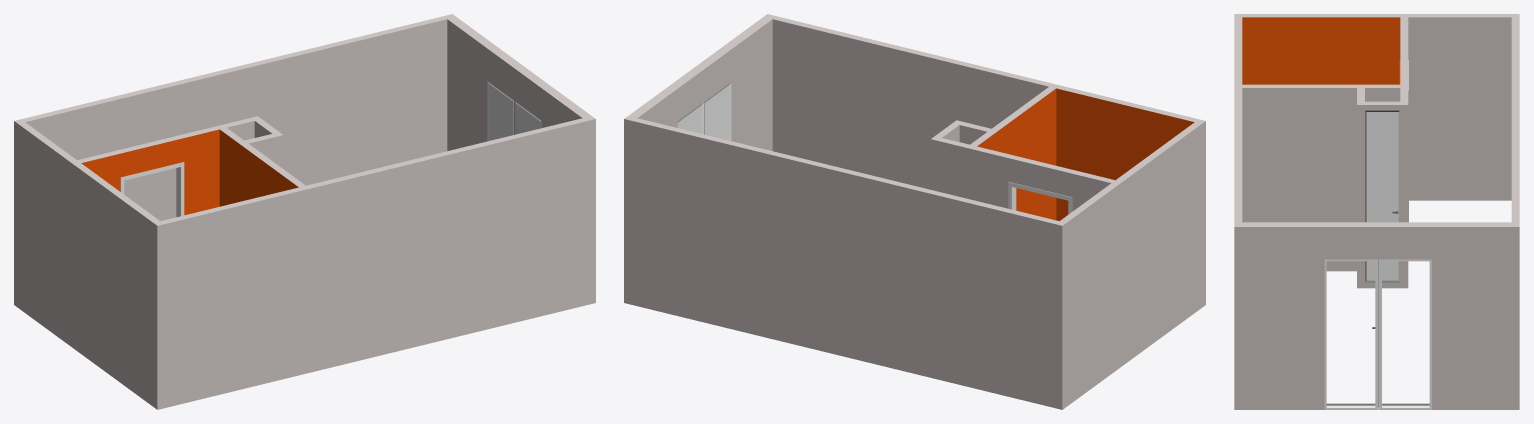
File: Walls.glb
3 views of the same model, side by side, from view 1: azimuth 30°, elevation 25°; view 2: azimuth 150°, elevation 25°; view 3: azimuth 270°, elevation 25° (orthographic).
Visible parts, largest first — view 1: Wall Right, Wall Left, Wall Back, Wall Front, Wall Left Bathroom, Wall Front Bathroom, Wall Right Kitchen; view 2: Wall Left, Wall Right, Wall Back, Wall Front, Wall Left Bathroom, Wall Front Bathroom; view 3: Wall Front, Wall Back, Wall Front Bathroom, Wall Door, Wall Left, Wall Left Bathroom, Wall Right, Wall Right Kitchen.
Boxes of the visible parts, x1,y1,x2,y2 form: Wall Right: (153, 118, 586, 409); Wall Left: (14, 14, 455, 307); Wall Back: (17, 122, 159, 406); Wall Front: (447, 17, 595, 304); Wall Left Bathroom: (76, 116, 261, 217); Wall Front Bathroom: (219, 127, 305, 206); Wall Right Kitchen: (245, 132, 283, 168); Wall Left: (624, 116, 1066, 409); Wall Right: (772, 16, 1205, 307); Wall Back: (1059, 122, 1201, 406); Wall Front: (628, 14, 776, 150); Wall Left Bathroom: (930, 136, 1115, 214); Wall Front Bathroom: (969, 86, 1056, 220); Wall Front: (1234, 222, 1511, 409); Wall Back: (1242, 14, 1512, 200); Wall Front Bathroom: (1241, 84, 1401, 271); Wall Door: (1364, 101, 1400, 288); Wall Left: (1511, 14, 1519, 409); Wall Left Bathroom: (1399, 17, 1408, 288); Wall Right: (1234, 14, 1242, 222); Wall Right Kitchen: (1357, 88, 1364, 288).
Bounding box in the file's own units: 6.23 × 2.5 × 3.53.
